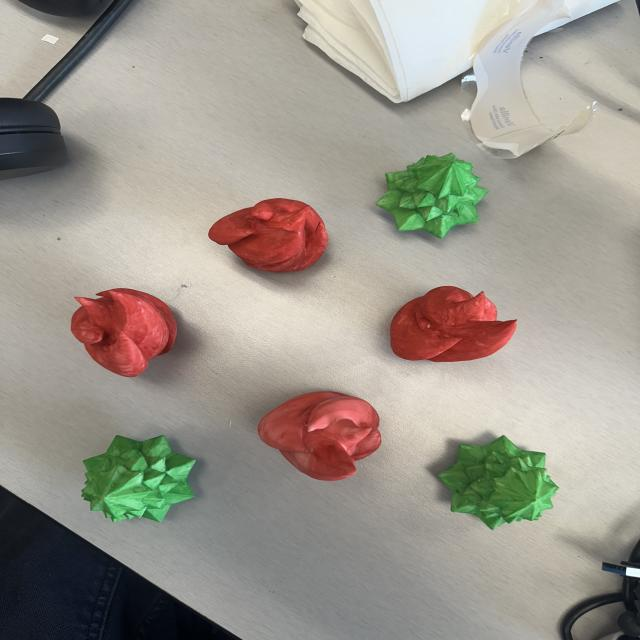fire: (256, 390, 385, 484), (68, 288, 182, 379), (392, 286, 518, 366), (209, 198, 331, 272)
tree: (437, 433, 559, 530), (81, 433, 202, 525), (374, 152, 490, 240)
